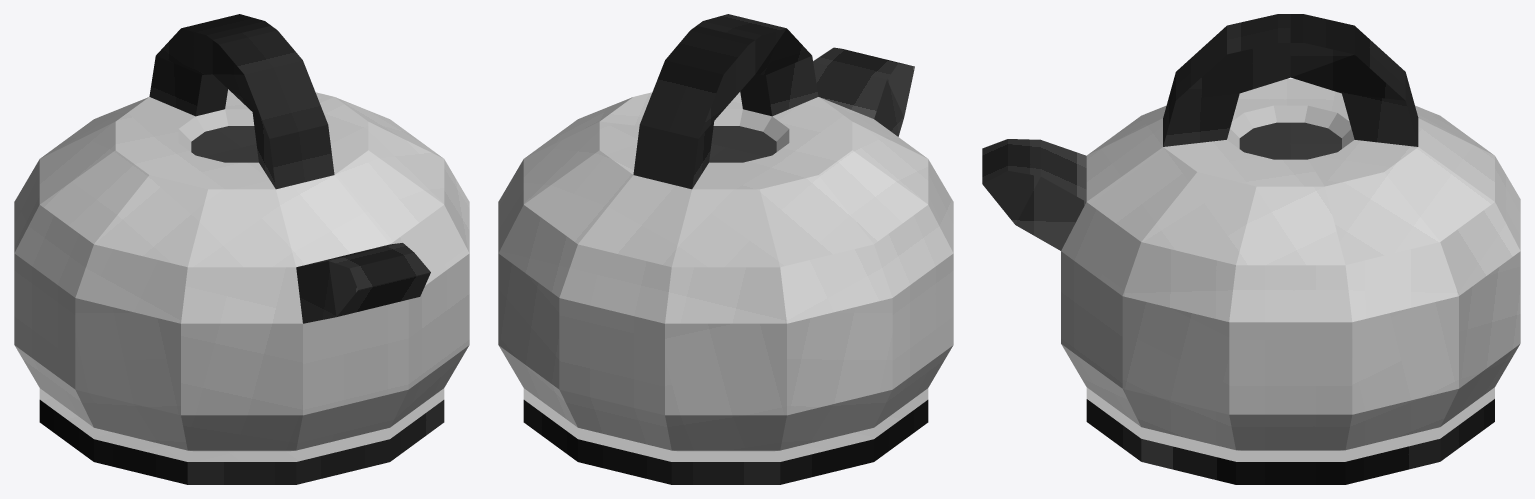
File: ketel.fbx
The picture shows the model from 3 angles, left to right: view 1: azimuth 30°, elevation 25°; view 2: azimuth 150°, elevation 25°; view 3: azimuth 270°, elevation 25°; orthographic projection.
Visible parts, largest first — view 1: cylinder; view 2: cylinder; view 3: cylinder.
Part boxes in pixels (<box>): cylinder: <box>14,14,469,484</box>; cylinder: <box>498,14,953,484</box>; cylinder: <box>982,14,1520,484</box>.
Size of the model in its own units: 56.25 by 50 by 65.87.
1 material, 1 textured.
